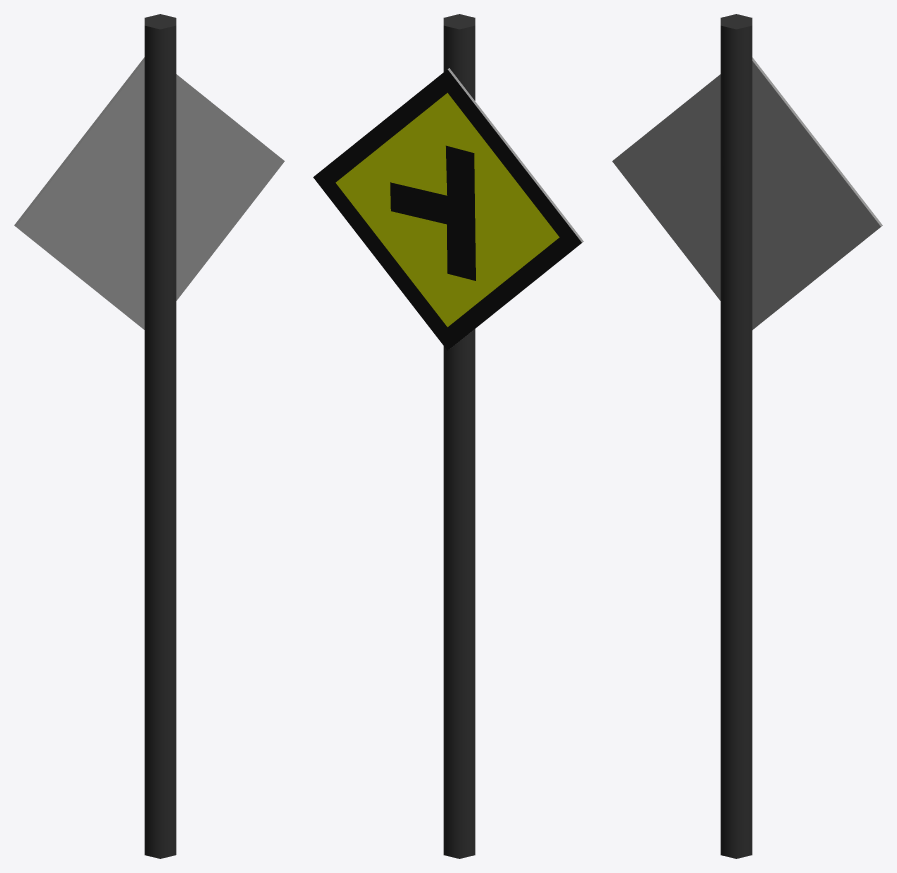
The model's file is t-junction road sign.FBX.
3 renders of one model, left to right at view 1: azimuth 30°, elevation 25°; view 2: azimuth 150°, elevation 25°; view 3: azimuth 330°, elevation 25°, orthographic.
Visible parts, largest first — view 1: Box185; view 2: Box185; view 3: Box185.
Boxes of the visible parts, box(x1,y1,x2,y2) form: Box185: box(14, 14, 284, 858); Box185: box(313, 14, 583, 858); Box185: box(612, 14, 882, 858).
Size of the model in its own units: 33.41 by 98.43 by 4.26.
